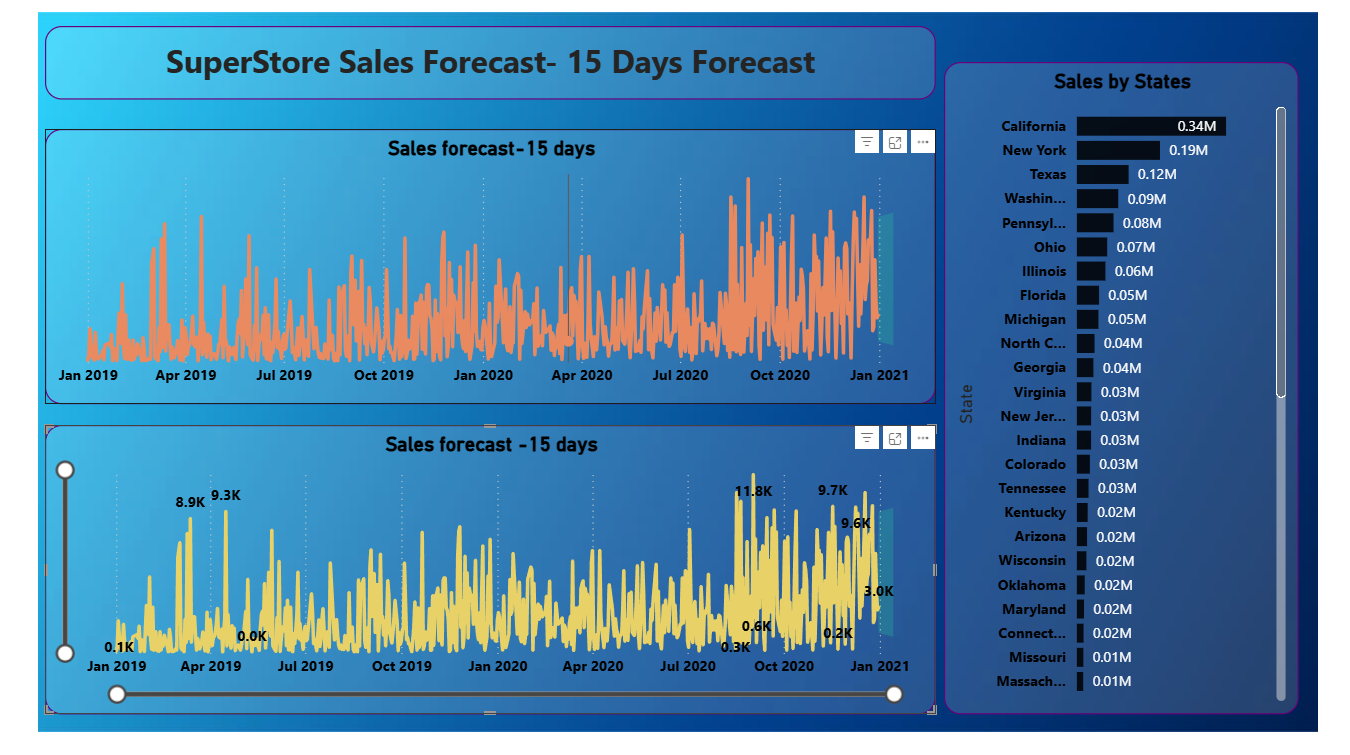

The dashboard page shown, as its layout file describes it:
{"tool":"powerbi","page":{"name":"Sales Forecast","canvas":[1280,720],"ordinal":1},"visuals":[{"type":"lineChart","title":"Sales forecast-15 days","fields":{"Y":["Sum(SuperStore_Sales_Dataset.Sales)"],"Category":["SuperStore_Sales_Dataset.Order Date"]},"box":[98.8,156.9,772.6,232.1],"z":0},{"type":"lineChart","title":"Sales forecast -15 days","fields":{"Y":["Sum(SuperStore_Sales_Dataset.Sales)"],"Category":["SuperStore_Sales_Dataset.Order Date"]},"box":[102.5,406.2,769,243.9],"z":1000},{"type":"barChart","title":"Sales by States","fields":{"Y":["Sum(SuperStore_Sales_Dataset.Sales)"],"Category":["SuperStore_Sales_Dataset.State"]},"box":[878.7,100.7,360,549.5],"z":2000},{"type":"textbox","box":[98.8,69.8,772.6,61.7],"z":3000}]}

Visuals, with their boxes in screenshot pixels (x1, y1, x2, y2), scaled from the page's 1280x720 canvas onto the 1350x755 screenshot:
"Sales forecast-15 days" lineChart: <region>104, 165, 919, 408</region>
"Sales forecast -15 days" lineChart: <region>108, 426, 919, 682</region>
"Sales by States" barChart: <region>927, 106, 1306, 682</region>
textbox: <region>104, 73, 919, 138</region>
